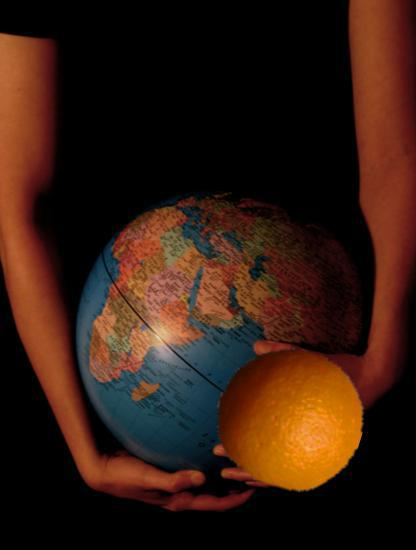Orange: (217, 344, 364, 491)
